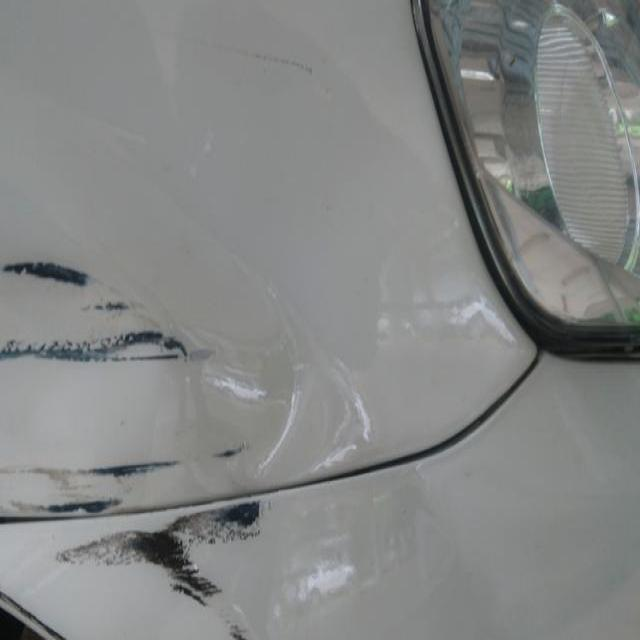Bumper: (10, 499, 482, 640)
Fender: (0, 0, 555, 525)
